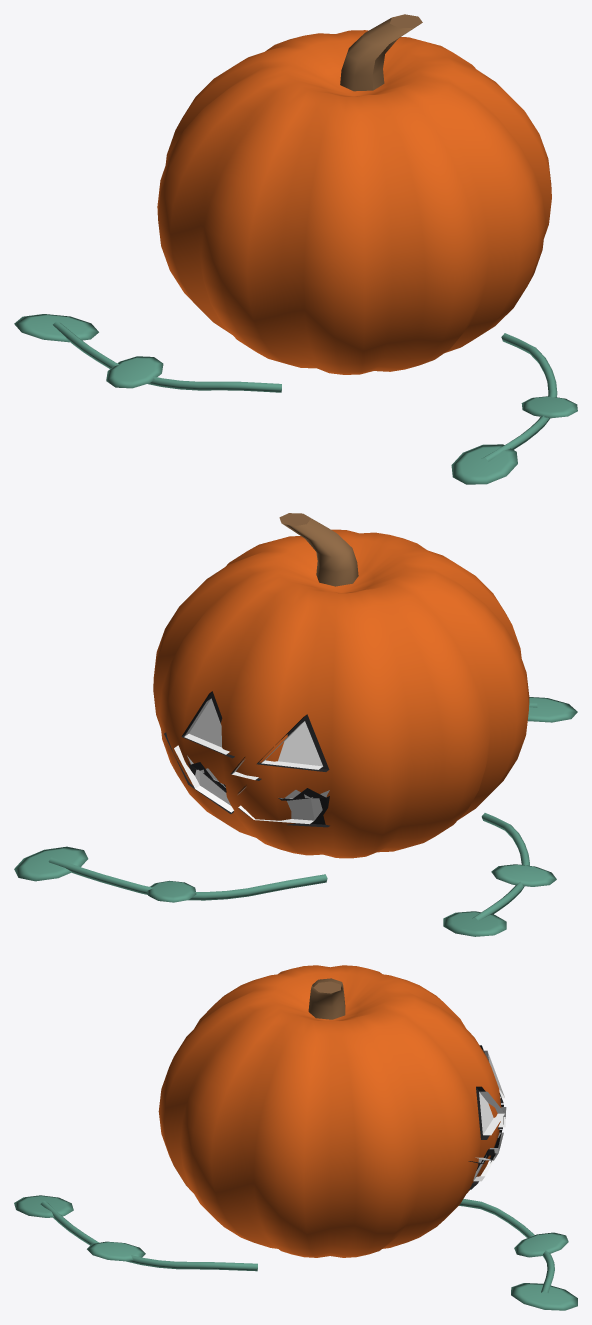
The model's file is GIANT_PUMPKIN.glb.
3 views of the same model, one above another, from view 1: azimuth 30°, elevation 25°; view 2: azimuth 150°, elevation 25°; view 3: azimuth 270°, elevation 25° (orthographic). The views are drawn at different scales.
Visible parts, largest first — view 1: plastic_0, copper_3, wood_2; view 2: plastic_0, copper_3, lamps_4, wood_2, tread_1; view 3: plastic_0, copper_3, wood_2, lamps_4, tread_1.
Part boxes in pixels (bbox=[...]): plastic_0: bbox=[157, 30, 551, 374]; copper_3: bbox=[14, 314, 577, 484]; wood_2: bbox=[340, 14, 422, 91]; plastic_0: bbox=[153, 529, 529, 858]; copper_3: bbox=[14, 697, 577, 936]; lamps_4: bbox=[174, 698, 329, 824]; wood_2: bbox=[279, 513, 358, 586]; tread_1: bbox=[164, 691, 329, 827]; plastic_0: bbox=[158, 965, 501, 1257]; copper_3: bbox=[14, 1195, 577, 1310]; wood_2: bbox=[308, 978, 345, 1019]; lamps_4: bbox=[473, 1050, 506, 1181]; tread_1: bbox=[468, 1045, 503, 1189].
Size of the model in its own units: 3.97 by 2.53 by 4.93.
